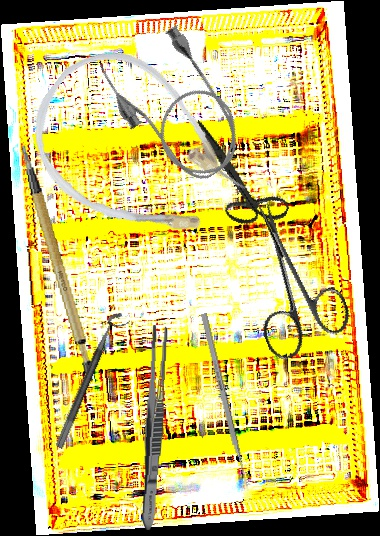Cannula: (4, 25, 271, 279), (90, 16, 259, 199)
Dressing Forceps: (138, 324, 170, 531)
Fixation Ring: (54, 309, 132, 454)
Iris Scissors: (218, 186, 358, 364), (168, 119, 307, 239)
Pusher: (199, 312, 252, 493)
Scalpel Handle: (19, 140, 98, 378)
